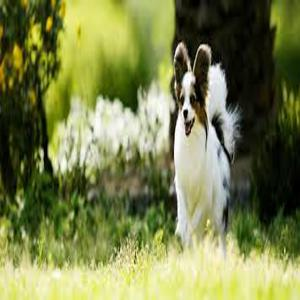yell: (172, 41, 240, 251)
